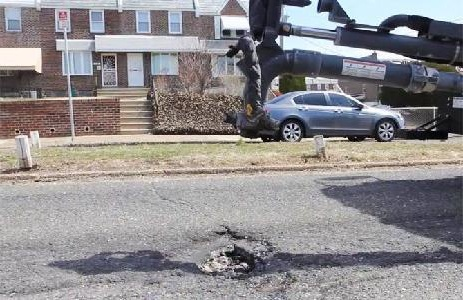pothole: (186, 225, 279, 282)
